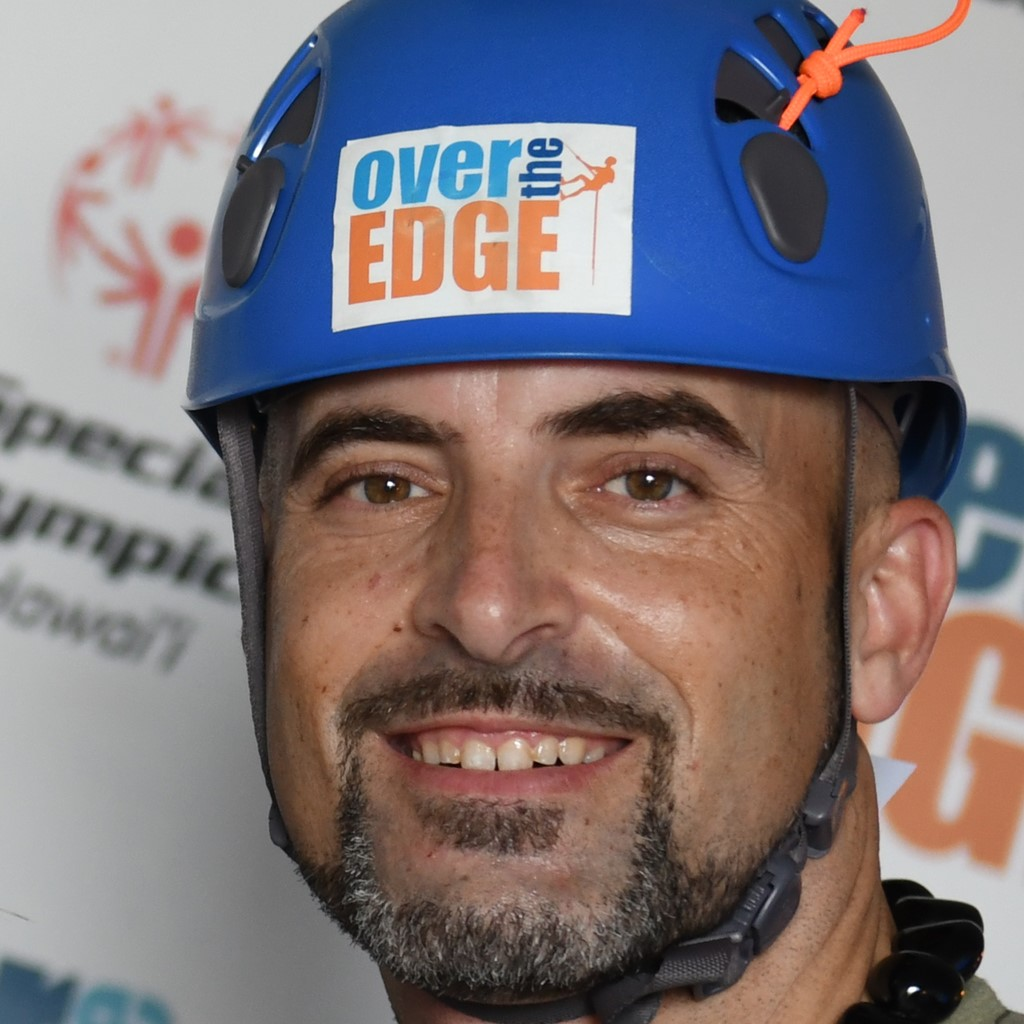sin_mascara: (239, 295, 911, 987)
